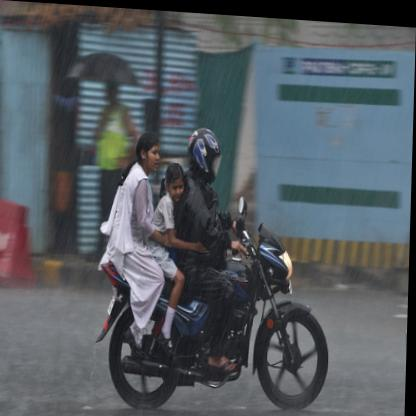With Helmet: (186, 118, 226, 186)
